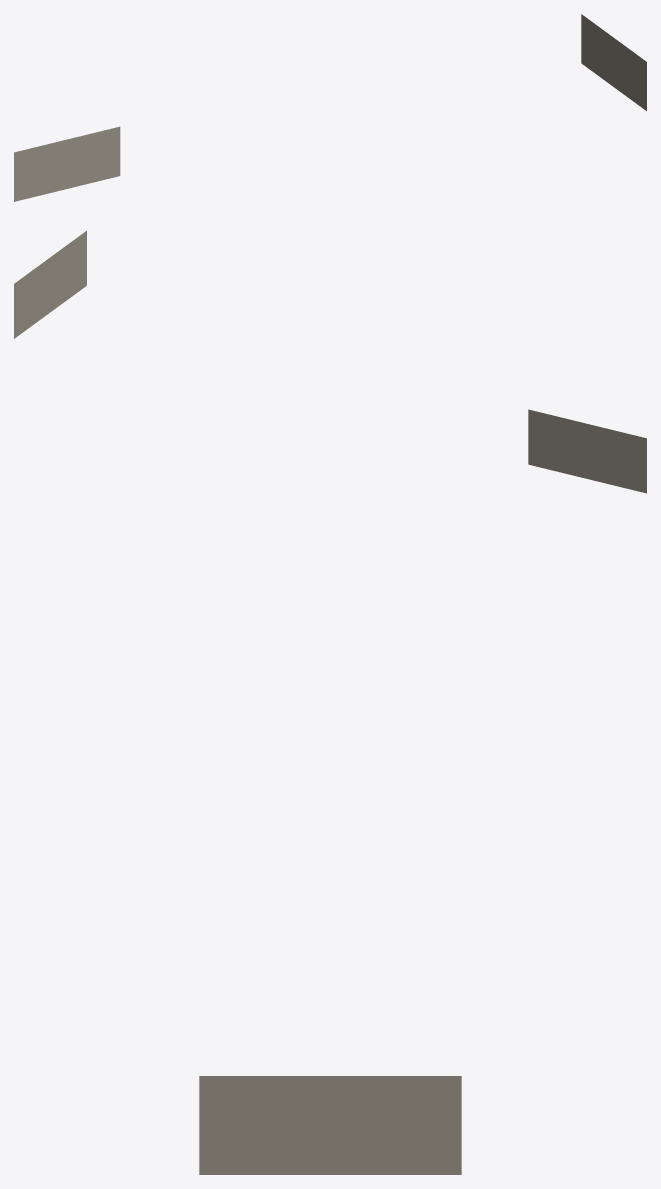
File: 0636-Buildings-shell-pieces-facade-bay-wall-round-an-opening-reveals-sill-head-emitBa.glb
3 renders of one model, top to bottom at view 1: azimuth 30°, elevation 25°; view 2: azimuth 150°, elevation 25°; view 3: azimuth 270°, elevation 25°, orthographic. The views are drawn at different scales.
Visible parts, largest first — view 1: emitBay; view 2: emitBay; view 3: emitBay.
Boxes of the visible parts, x1,y1,x2,y2 form: emitBay: (14, 14, 646, 201); emitBay: (14, 231, 646, 493); emitBay: (199, 1076, 461, 1174).
Bounding box in the file's own units: 48 × 4 × 9.6.
